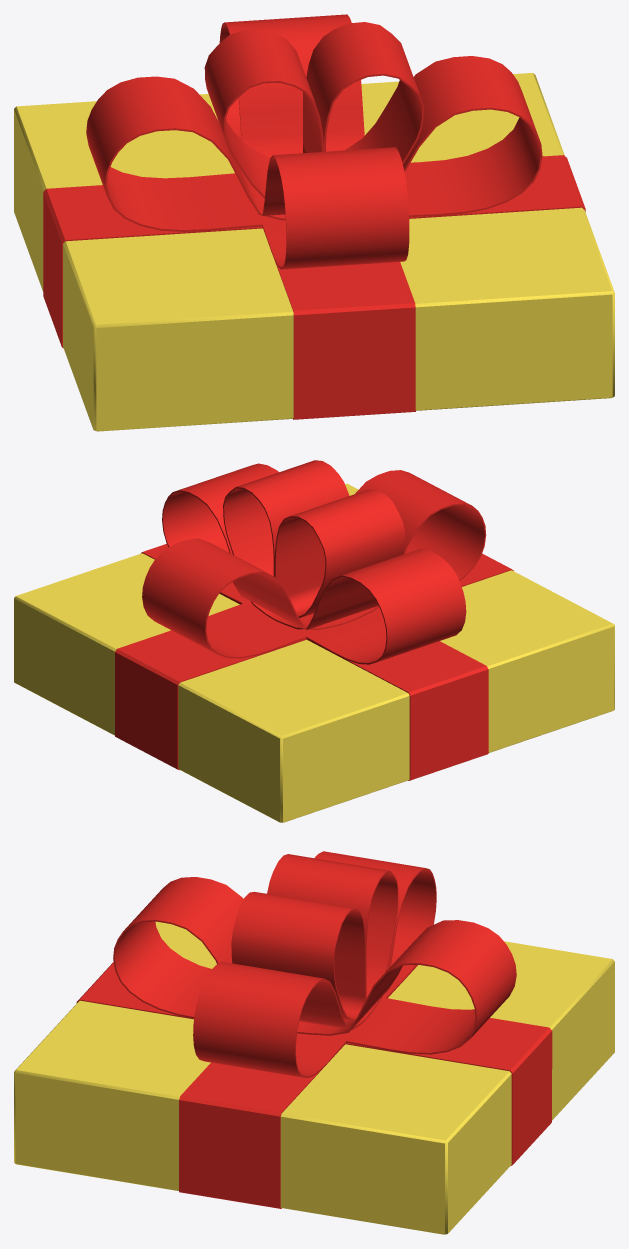
Rendered from Present1_2.fbx.
3 views of the same model, one above another, from view 1: azimuth 30°, elevation 25°; view 2: azimuth 150°, elevation 25°; view 3: azimuth 270°, elevation 25° (orthographic). The views are drawn at different scales.
Visible parts, largest first — view 1: Present1_2; view 2: Present1_2; view 3: Present1_2.
Boxes of the visible parts, <box> form: Present1_2: <box>14,14,614,431</box>; Present1_2: <box>14,460,614,822</box>; Present1_2: <box>14,851,614,1234</box>.
Bounding box in the file's own units: 0.5216 × 0.2146 × 0.5217.
